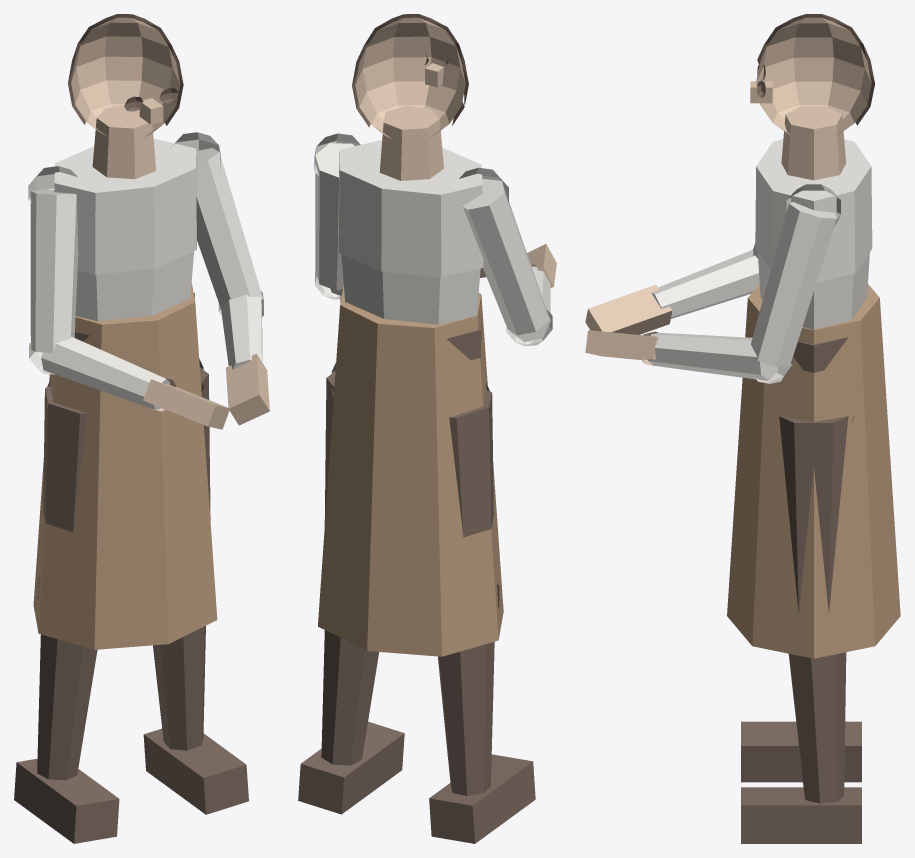
The model's file is villager_woman.glb.
3 views of the same model, side by side, from view 1: azimuth 30°, elevation 25°; view 2: azimuth 150°, elevation 25°; view 3: azimuth 270°, elevation 25° (orthographic).
Visible parts, largest first — view 1: villager-woman; view 2: villager-woman; view 3: villager-woman.
Boxes of the visible parts, left/top/right/bottom form: villager-woman: left=14, top=14, right=269, bottom=843; villager-woman: left=298, top=14, right=556, bottom=843; villager-woman: left=585, top=14, right=900, bottom=843.
Bounding box in the file's own units: 0.511 × 1.67 × 0.6066.
